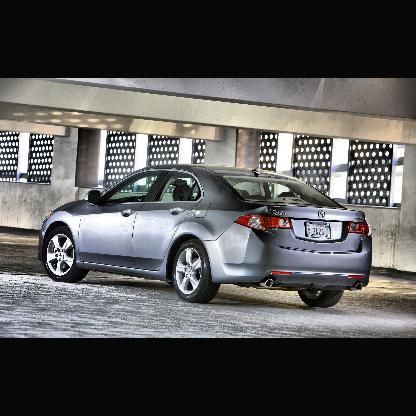Acura TSX Sedan 2012: (39, 164, 372, 309)
